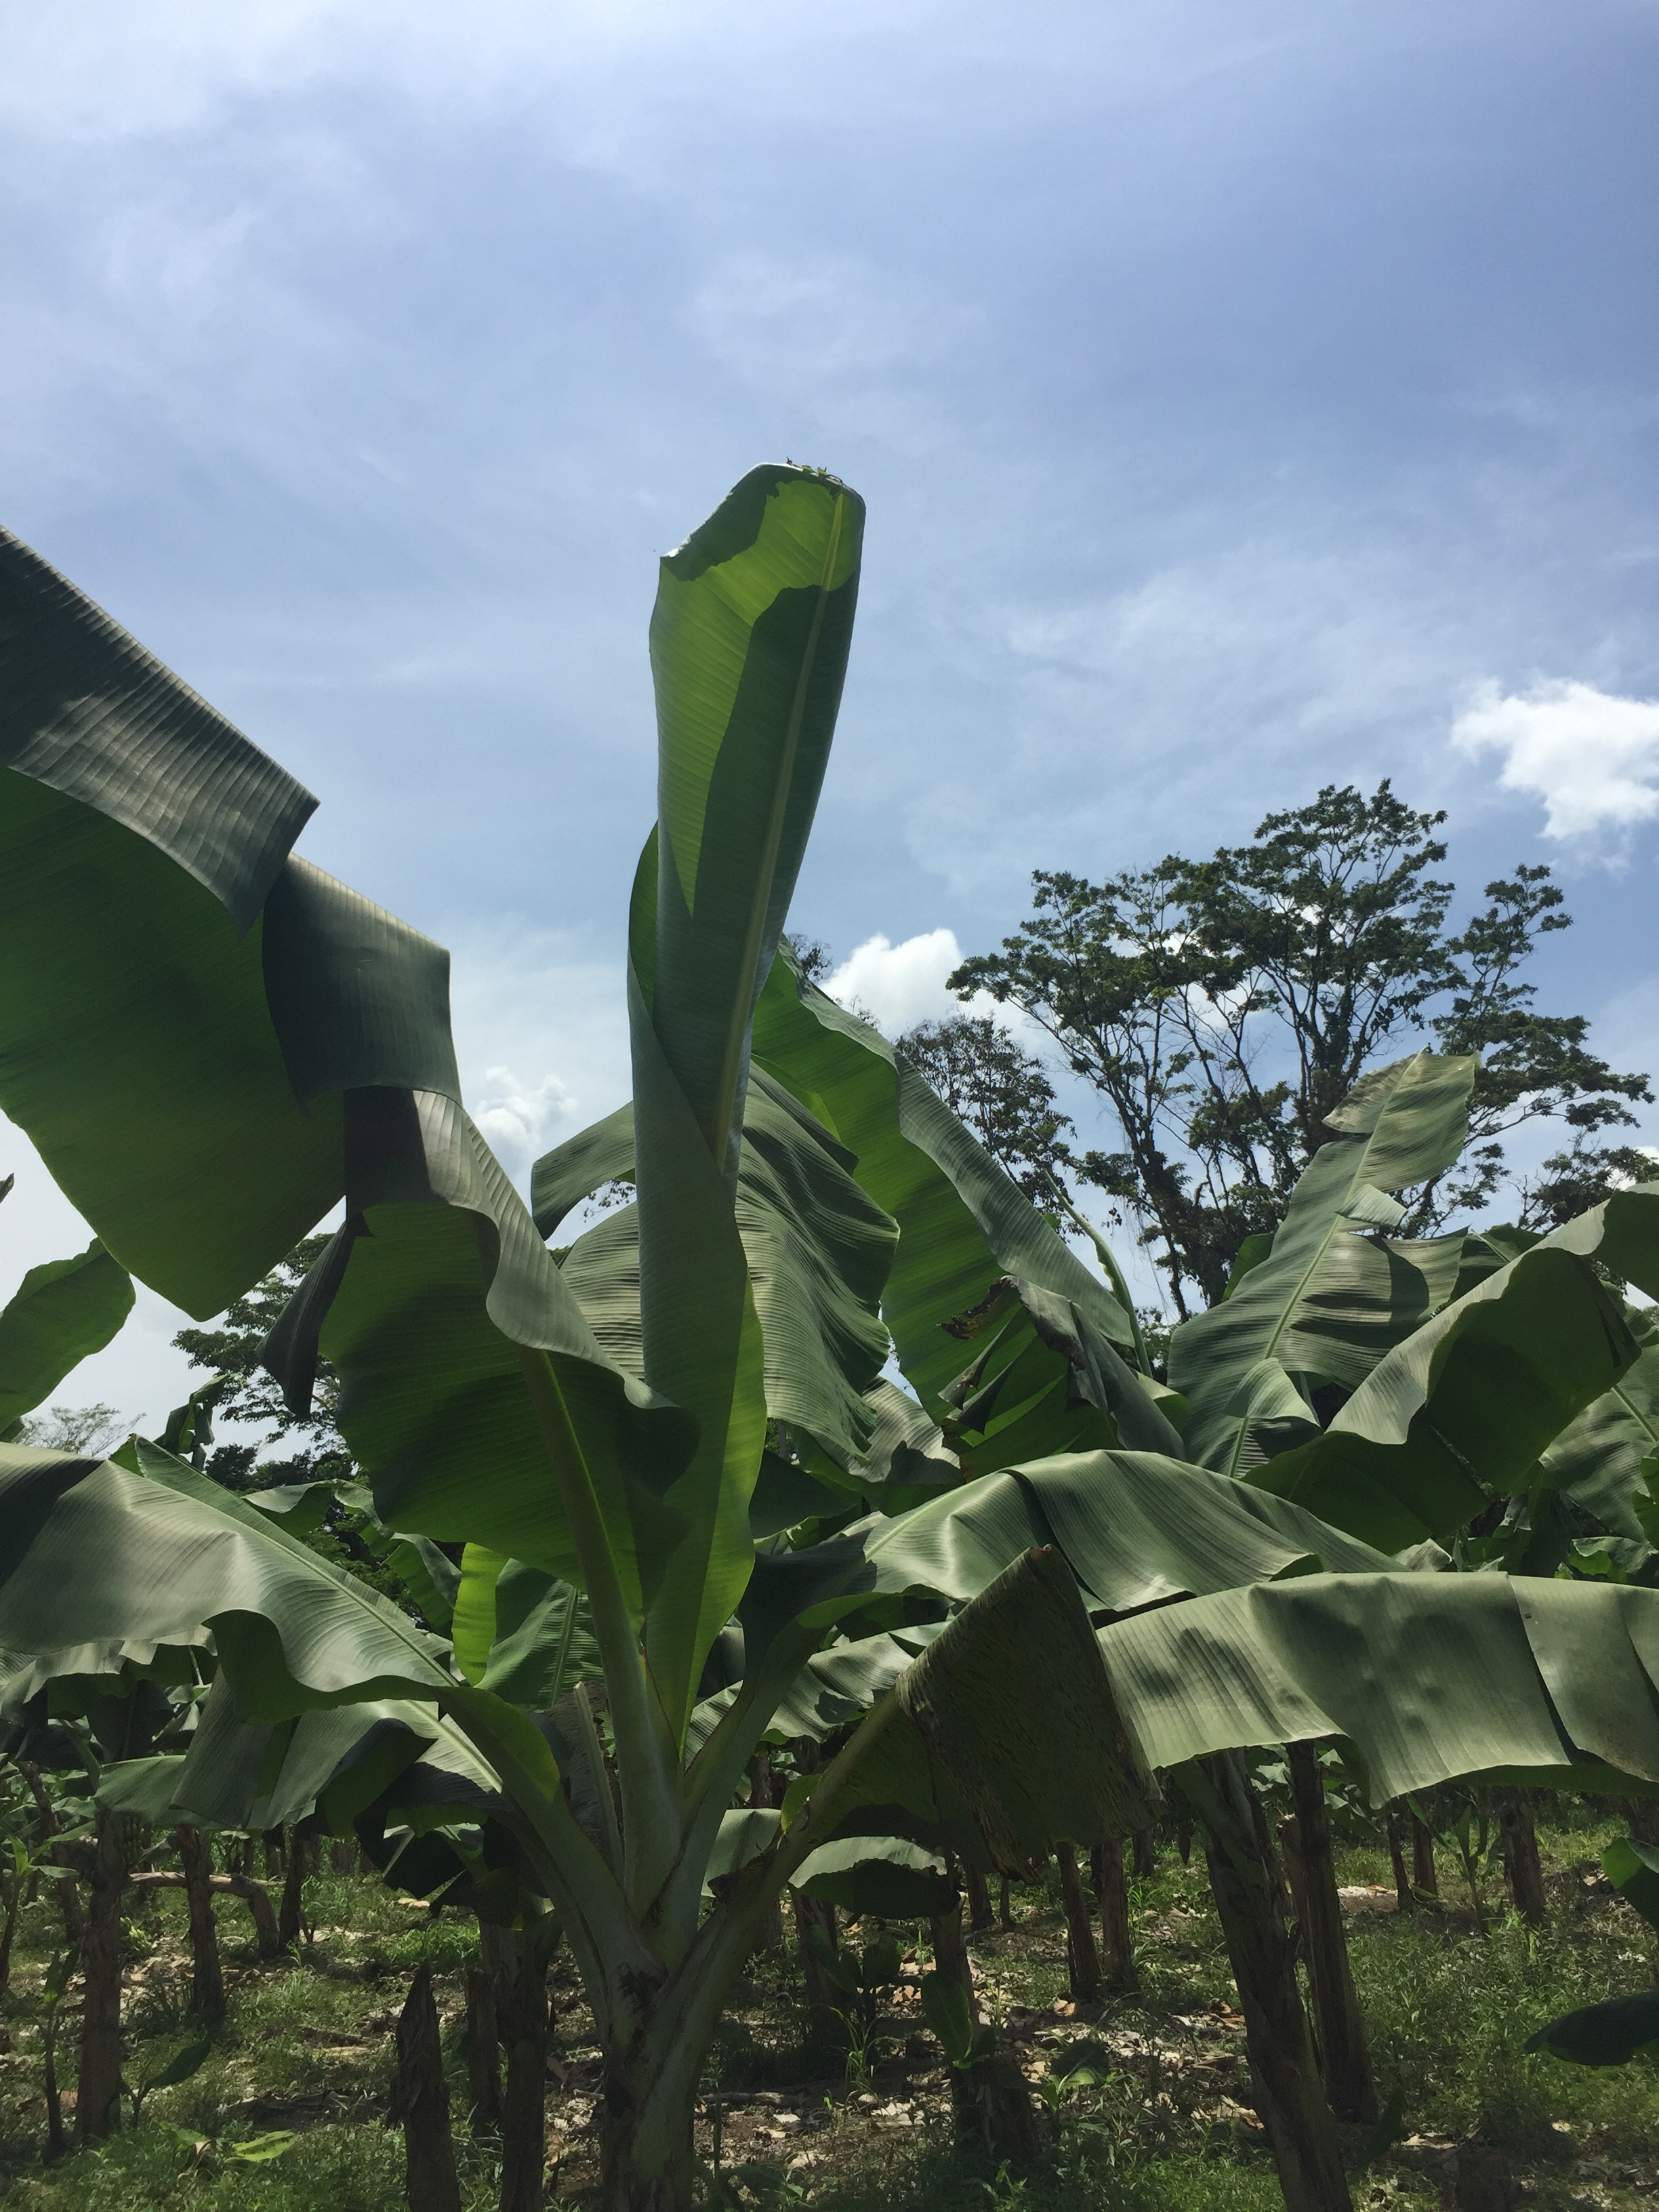candleleafs: (1042, 1169, 1152, 1379)
